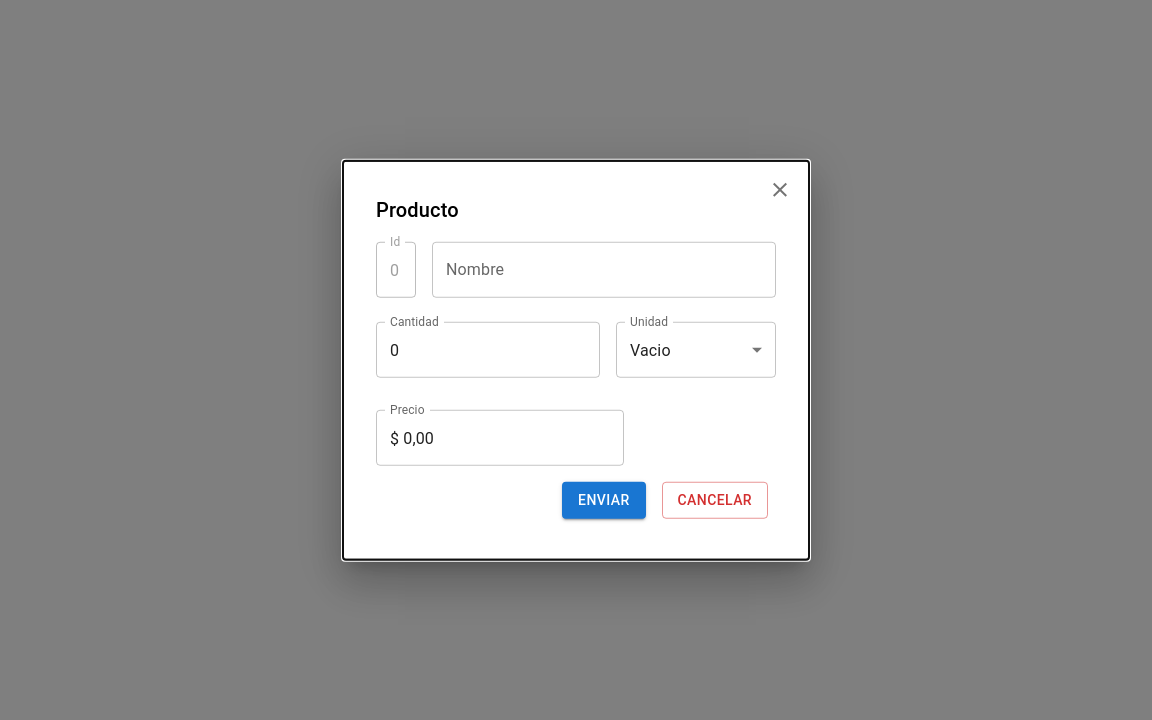
Test case: ProductoFormModal › debería mostrar error si se envía sin precio
Expected: the button "Enviar" is shown, [562,482,646,518]
Type "Test" into the field labelled "Nombre" at (604, 270), box [432,242,776,298]
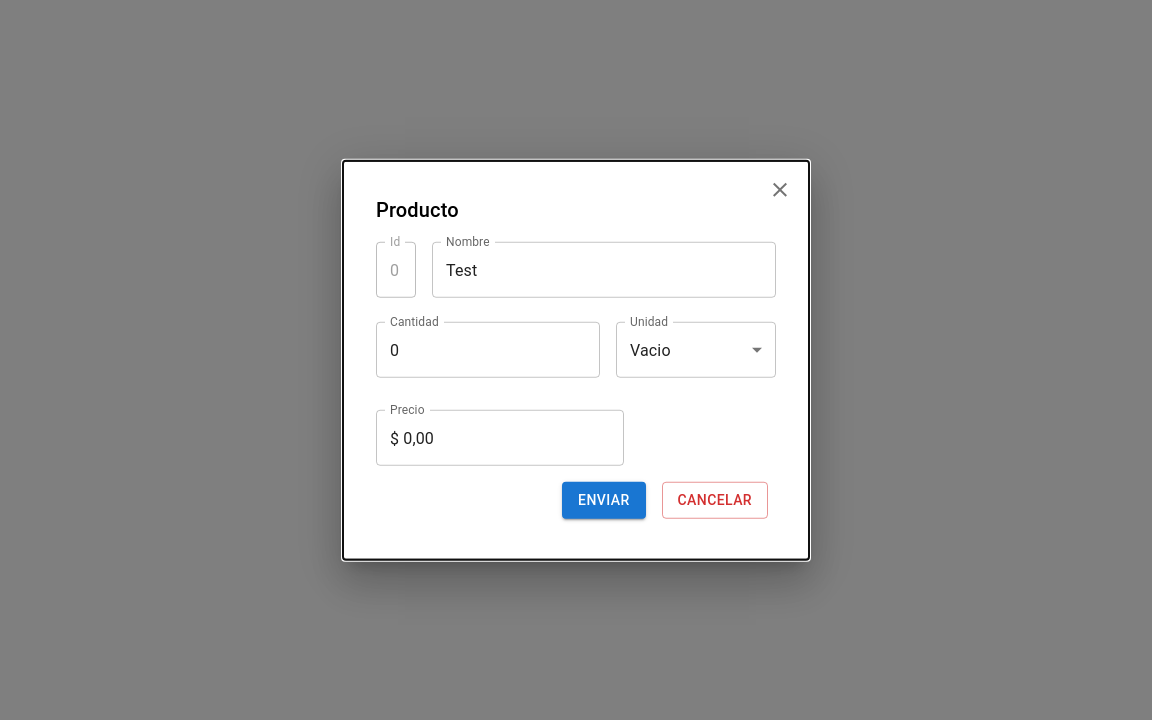
Replace the text in the number field labelled "Cantidad" with "1000" at (488, 350), box [376,322,600,378]
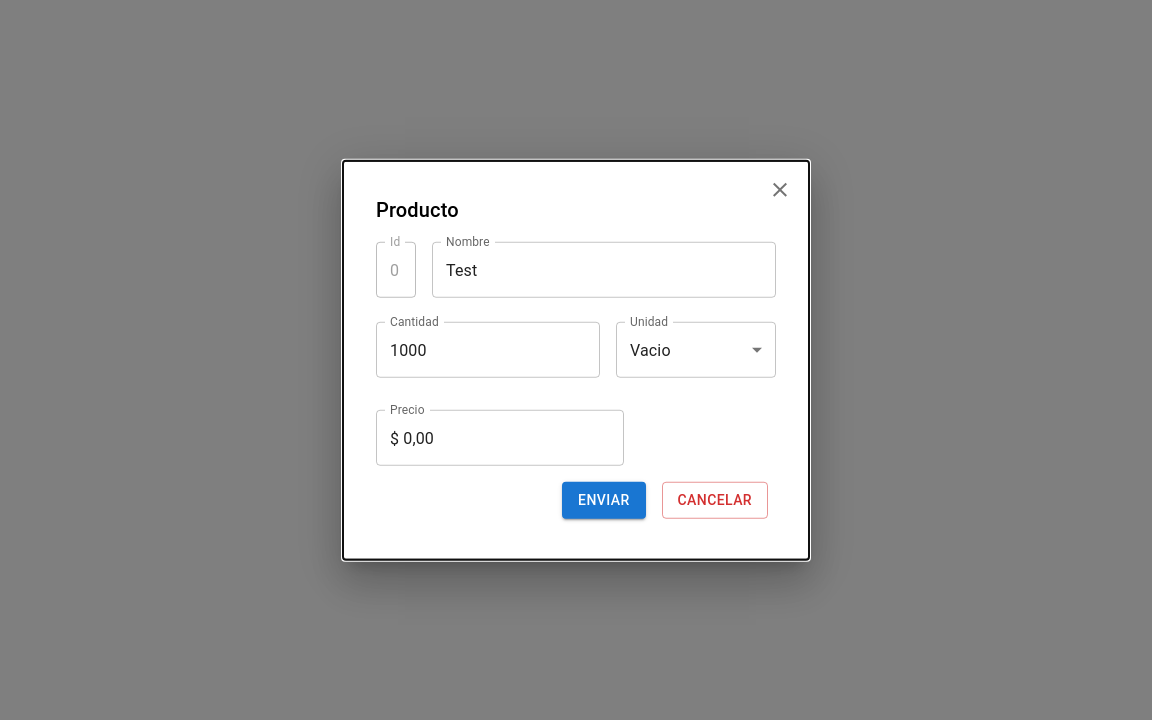
Click the button "Enviar" at (604, 500), box [562,482,646,518]
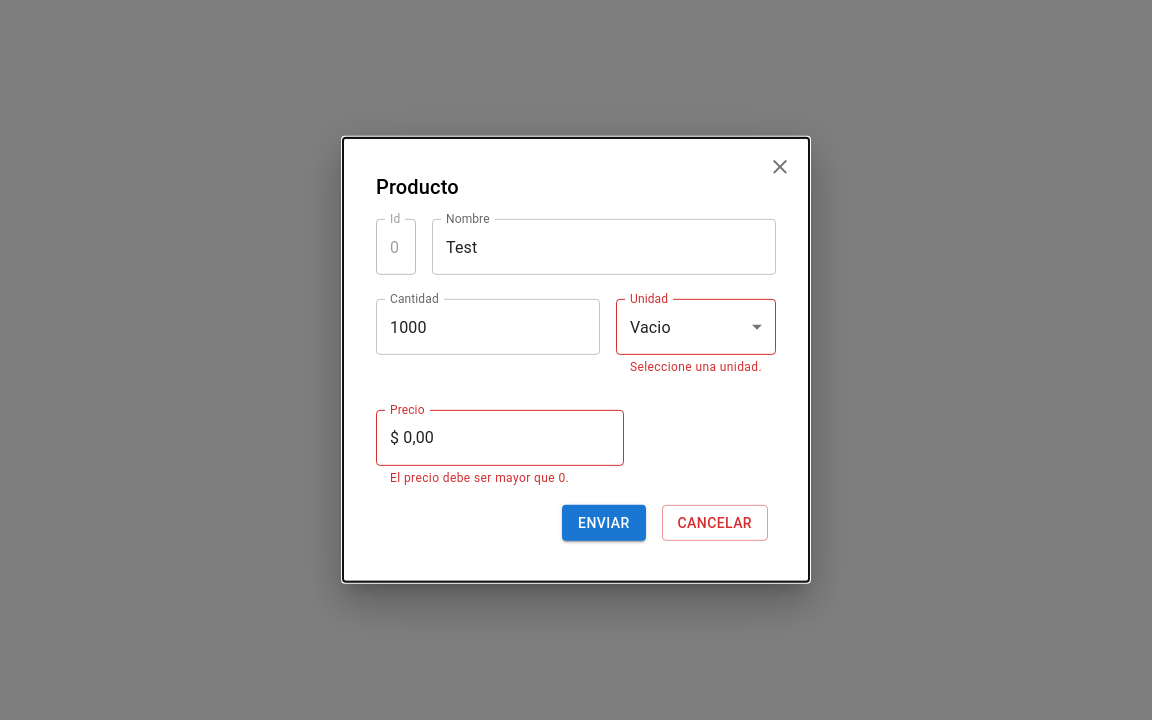
Result: the text "El precio debe ser mayor que 0." is shown at [390,471,569,485]
